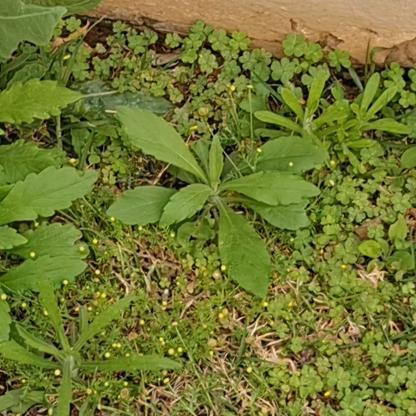Weeds: (110, 101, 329, 310), (7, 284, 179, 415), (254, 75, 351, 165), (343, 74, 411, 160)
